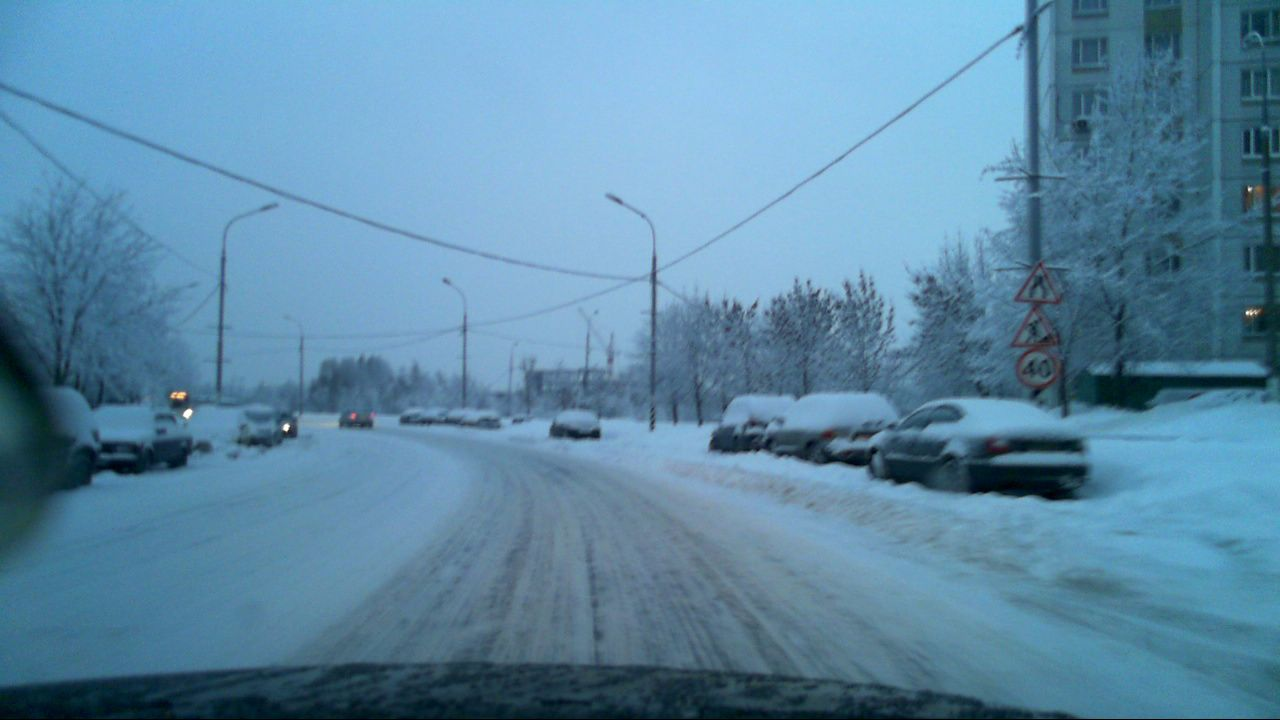speed_warning_40: (1015, 347, 1059, 390)
